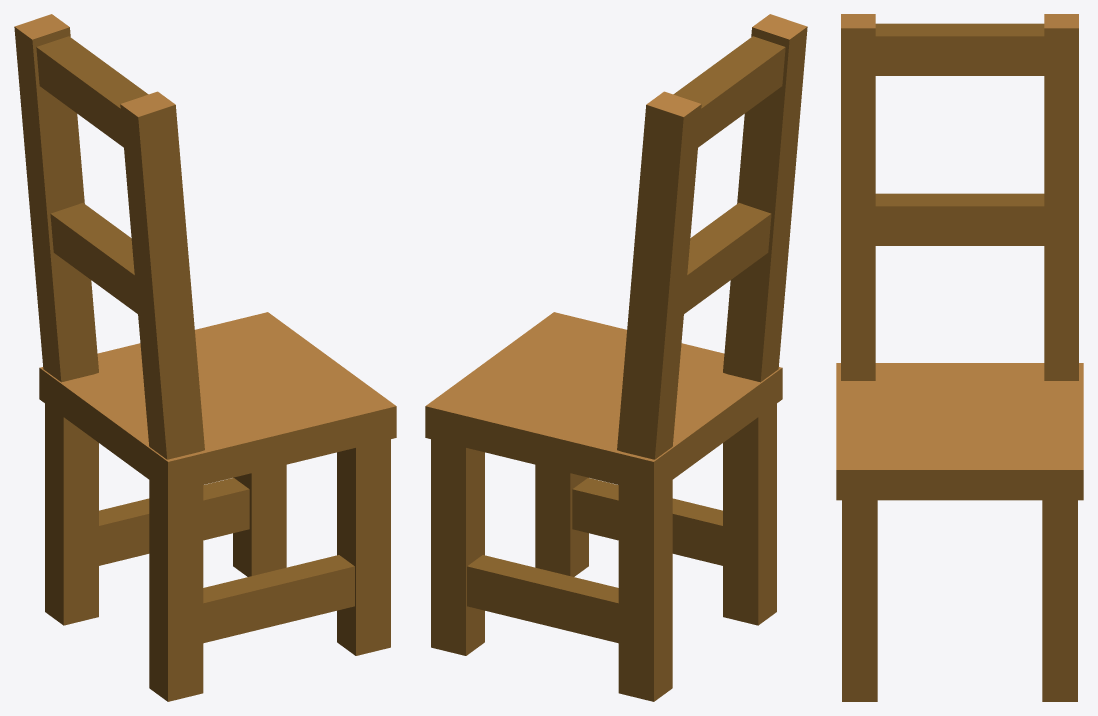
Rendered from ChairV1.fbx.
The picture shows the model from 3 angles, left to right: view 1: azimuth 30°, elevation 25°; view 2: azimuth 150°, elevation 25°; view 3: azimuth 270°, elevation 25°; orthographic projection. The views are drawn at different scales.
Visible parts, largest first — view 1: Leg; view 2: Leg; view 3: Leg.
Boxes of the visible parts, x1,y1,x2,y2 form: Leg: (14, 14, 396, 701); Leg: (425, 14, 807, 701); Leg: (836, 14, 1083, 701).
Bounding box in the file's own units: 299 × 344 × 764.
